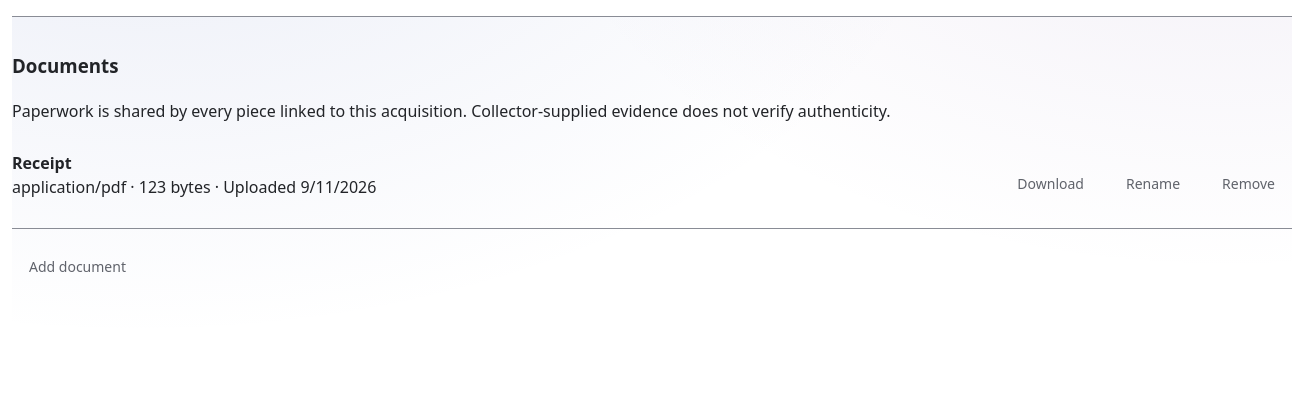
Test case: requires explicit shared removal and freezes a conflict without adopting new versions
This screenshot has width=1304, height=402.
Click the button with aria-label "Remove Receipt".
click(1249, 183)  # box [1205,161,1292,205]
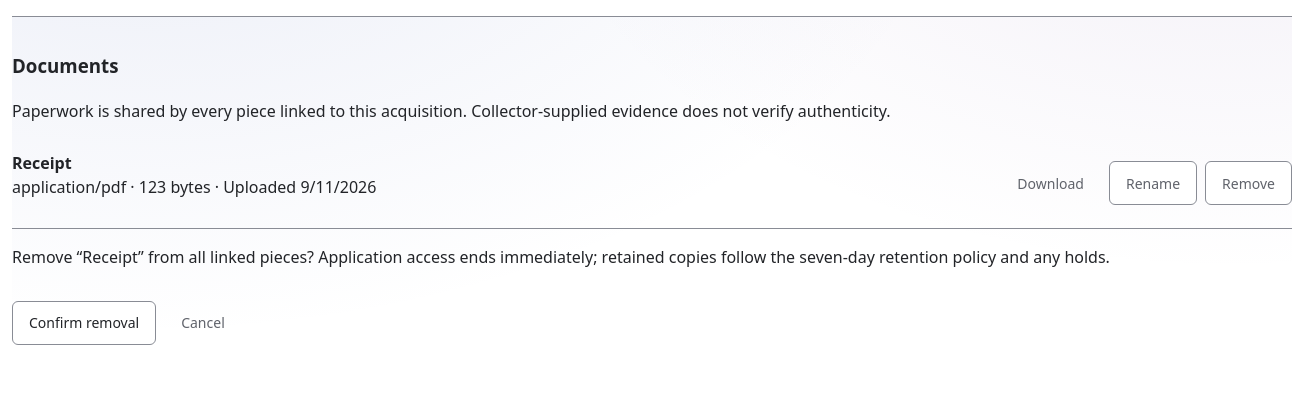
Now the text "from all linked pieces" is shown, box [138,246,1110,268]
Note: WHEN confirmed THEN a conflict has no implicit retry.
Click the button "Confirm removal".
click(84, 323)  # box [12,301,156,345]
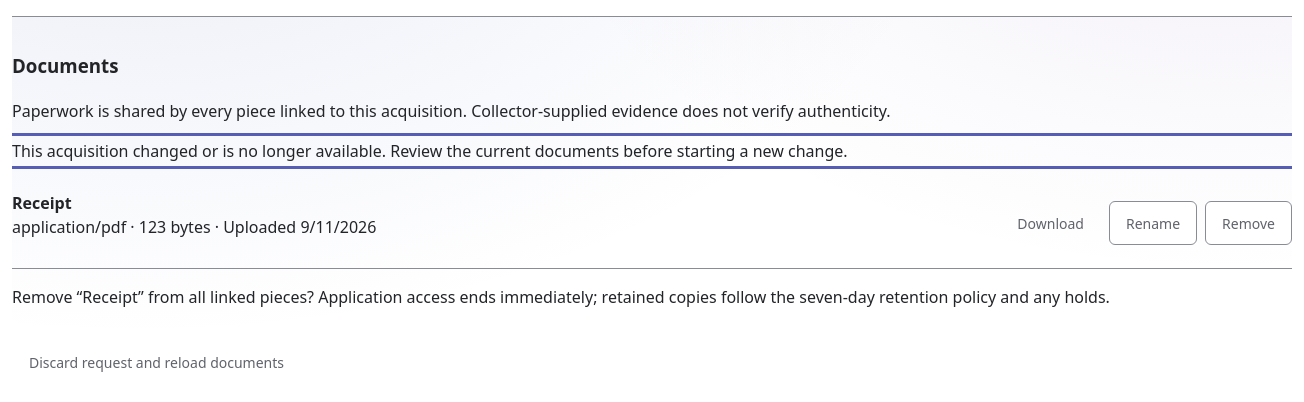
Now the button "Discard request and reload documents" is shown, box [12,341,301,385]
